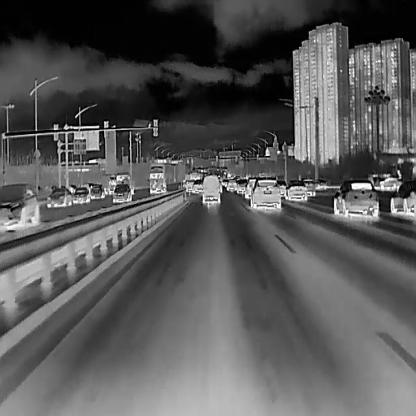car: (0, 182, 40, 231), (332, 178, 378, 214), (250, 178, 281, 208), (390, 180, 415, 216), (47, 186, 71, 207), (202, 176, 220, 202), (286, 178, 306, 200), (113, 183, 132, 201), (377, 176, 400, 188), (72, 187, 90, 202), (244, 178, 256, 197), (304, 178, 315, 196), (90, 184, 104, 198), (275, 178, 285, 197), (192, 179, 203, 193), (237, 178, 245, 192), (226, 179, 236, 190)
truck: (148, 158, 184, 192)
